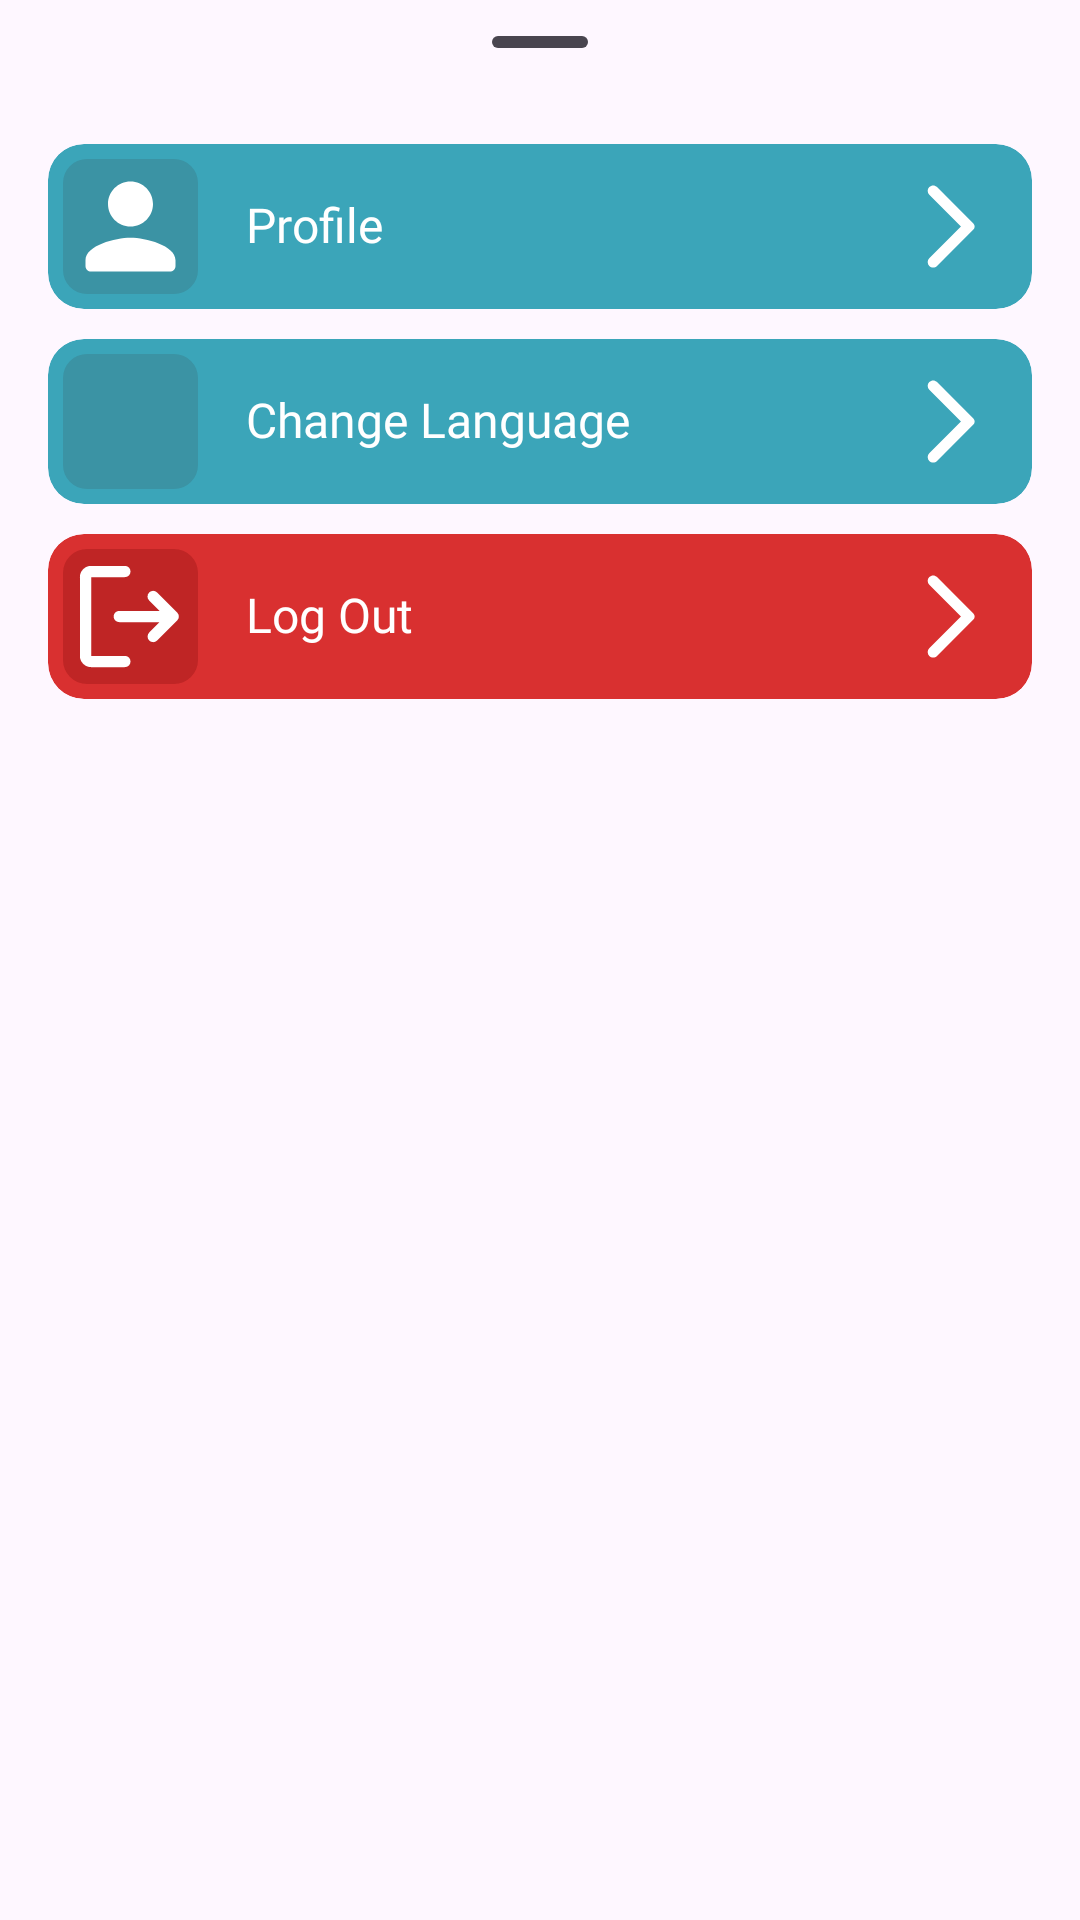

Named icons in this screenshot (1080px x 1920px) and their bounding boxes, bbox=(x1, y1, x2, y2):
next: bbox=(927, 185, 975, 268), bbox=(927, 380, 975, 463), bbox=(927, 575, 975, 658)
